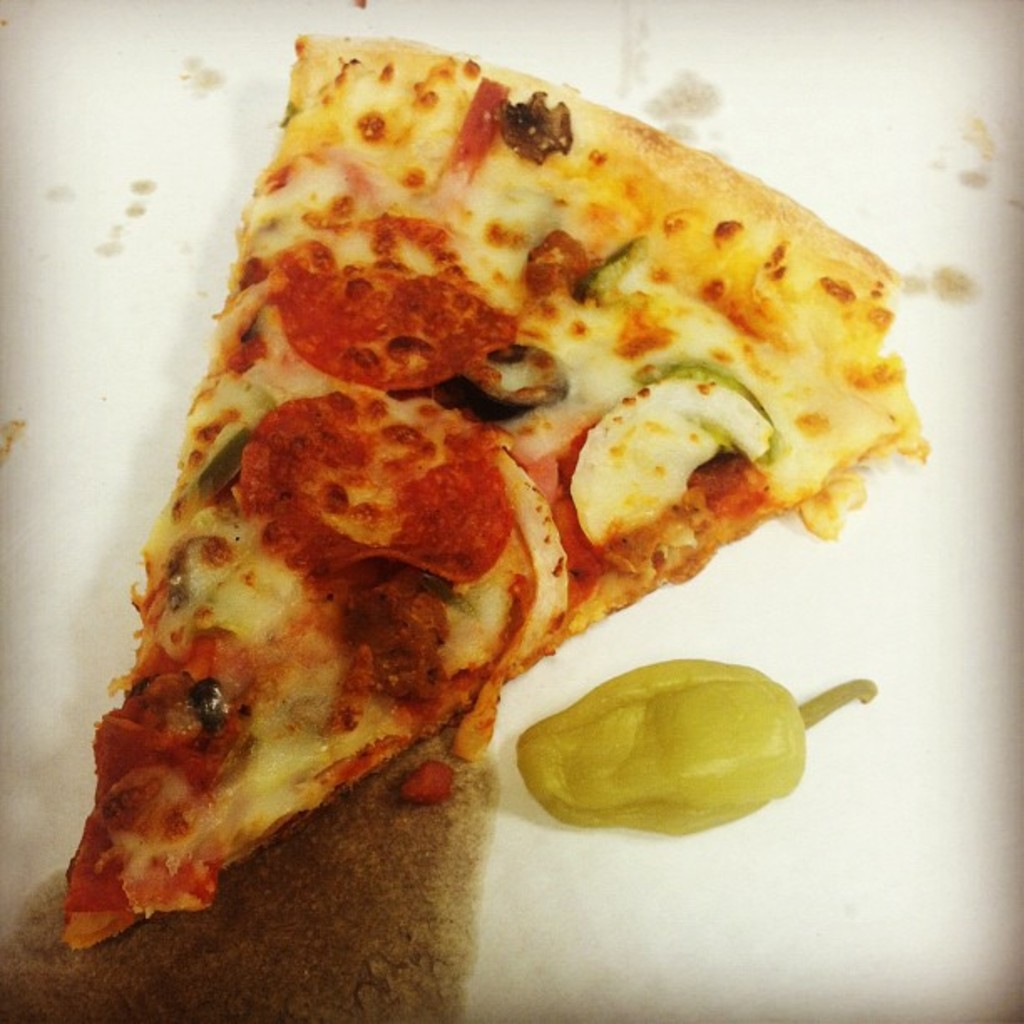Pizza: (65, 28, 928, 952)
